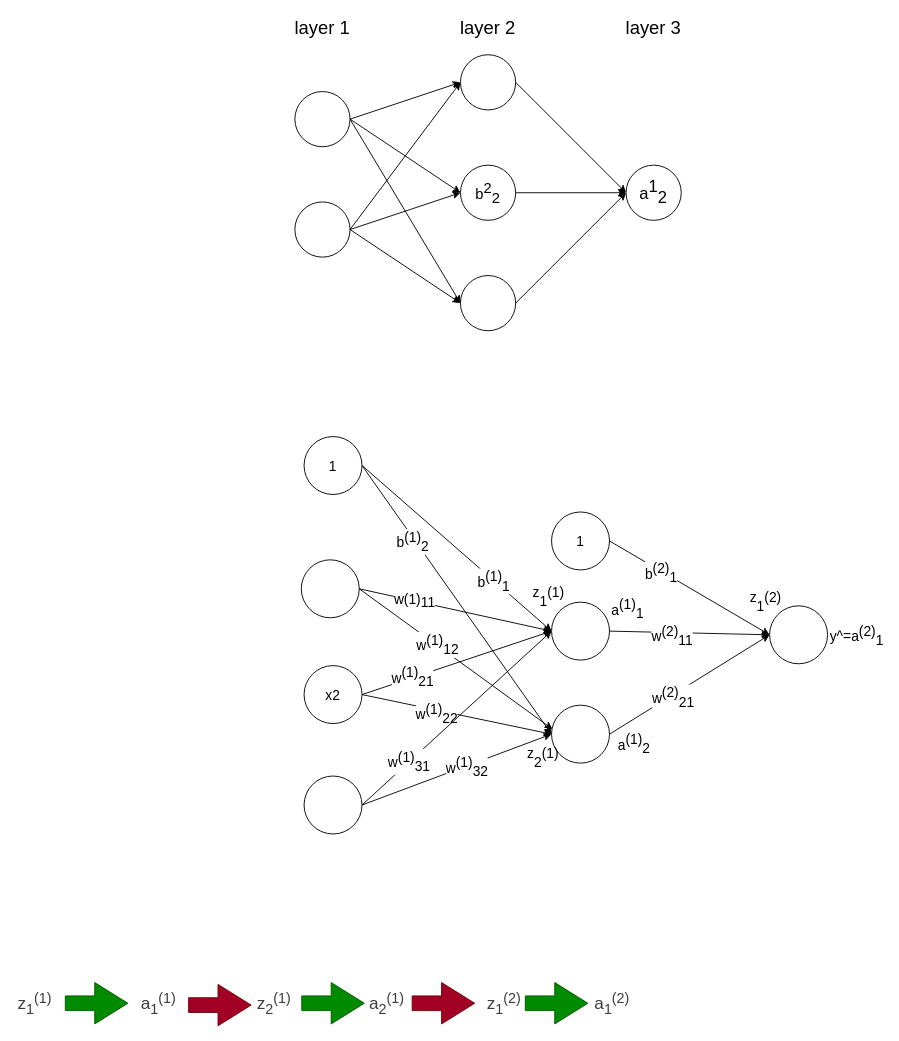
Some shapes in this 899 by 1041 pixel diagram are drawn without their labels. Here are the shapes that lost their labels. From the top down, the centre of each, then its label:
At point (329, 588): "x1".
At point (332, 804): "x3".
